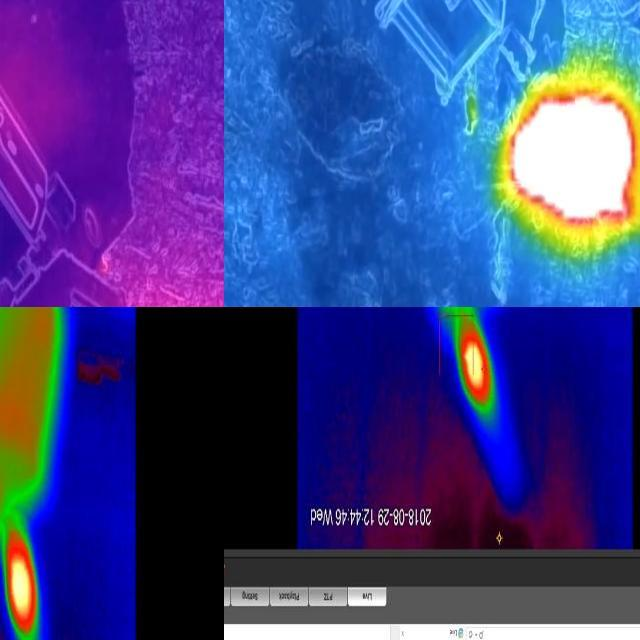fire: (498, 72, 640, 258), (455, 308, 498, 423), (3, 523, 39, 640)
